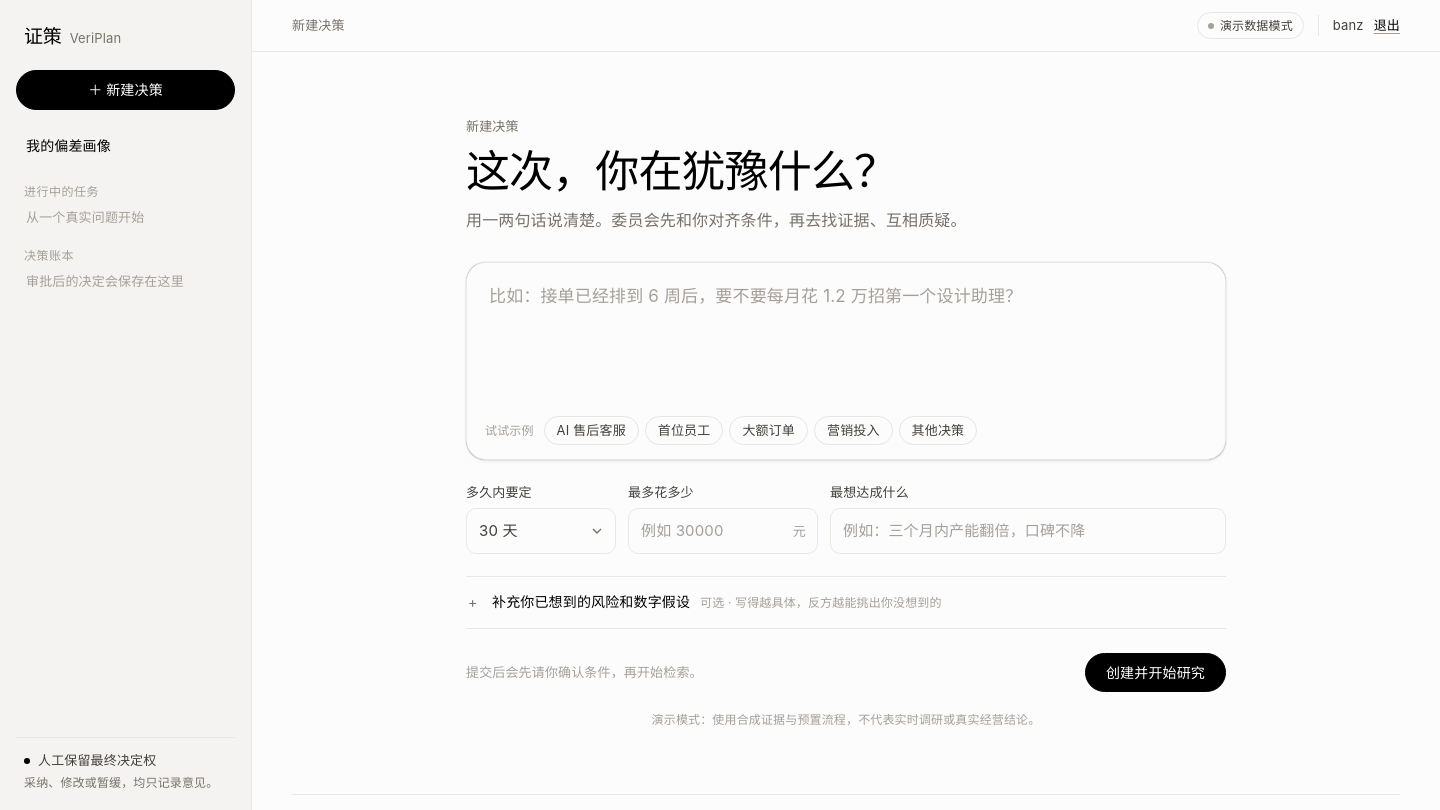
AuthGate › enters the app for a signed-in user, and logs out back to the sign-in page
Expected: the text "banz" is shown, [1333,15,1364,36]
Click the button "退出".
click(1387, 26)  # box [1374,16,1400,35]
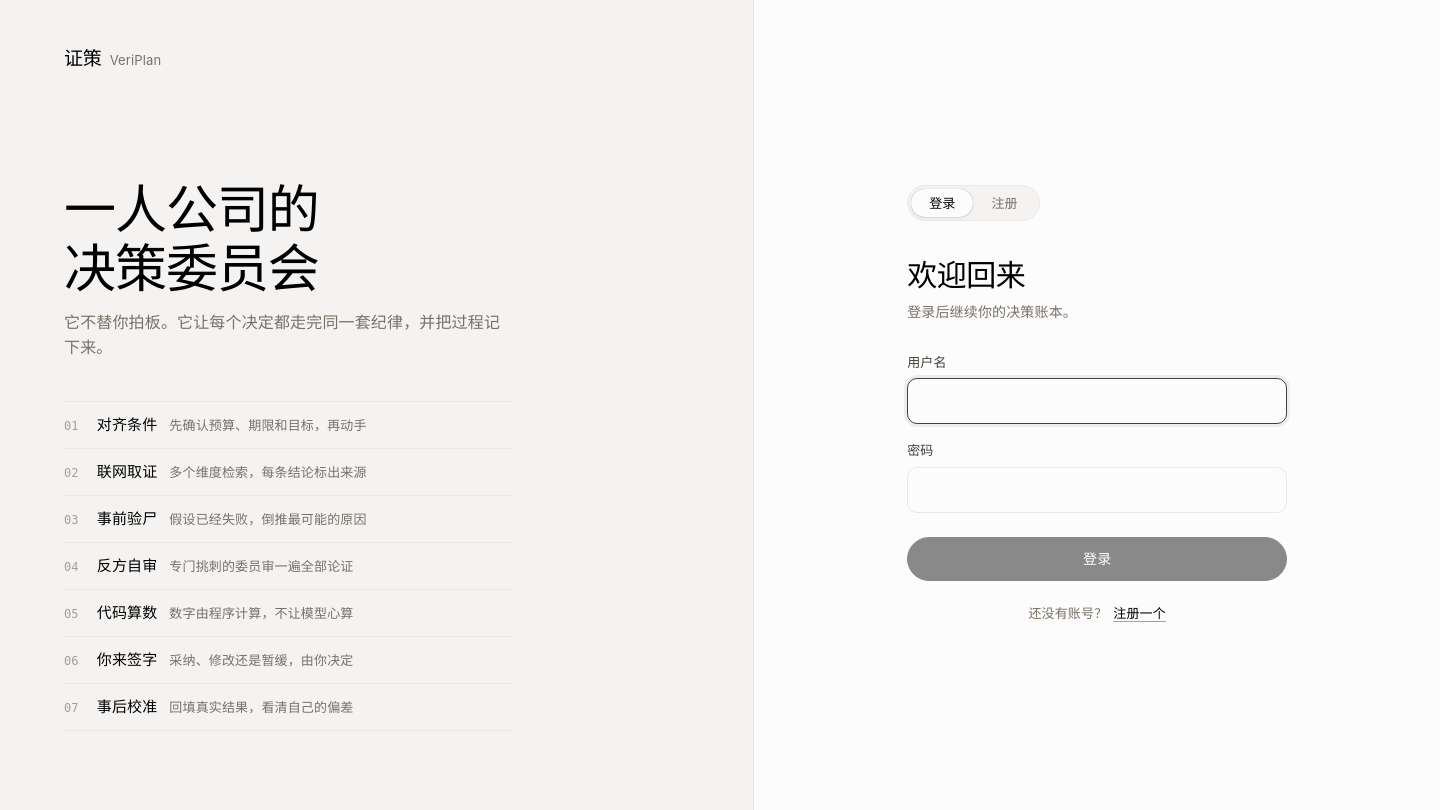
Expected: the heading "欢迎回来" is shown, [907,257,1025,293]
